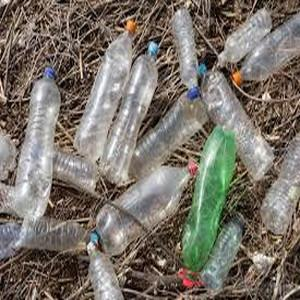Plastic: (71, 18, 134, 159), (201, 64, 269, 180), (216, 2, 282, 65), (20, 208, 98, 253), (168, 8, 204, 98), (204, 224, 253, 289)
